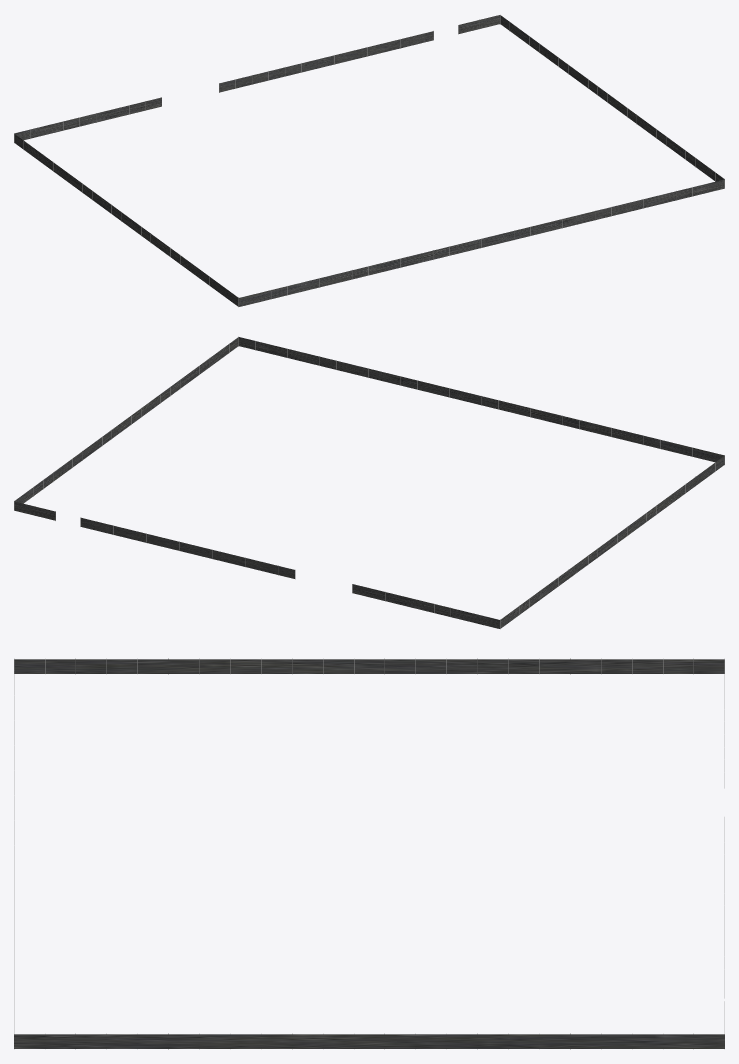
File: vallado.FBX
3 renders of one model, top to bottom at view 1: azimuth 30°, elevation 25°; view 2: azimuth 150°, elevation 25°; view 3: azimuth 270°, elevation 25°, orthographic. The views are drawn at different scales.
Visible parts, largest first — view 1: muro cerramiento; view 2: muro cerramiento; view 3: muro cerramiento.
Boxes of the visible parts, box(x1,y1,x2,y2) form: muro cerramiento: box(14, 15, 724, 306); muro cerramiento: box(14, 337, 724, 628); muro cerramiento: box(14, 659, 724, 1048).
Size of the model in its own units: 14827 by 11874 by 298.
